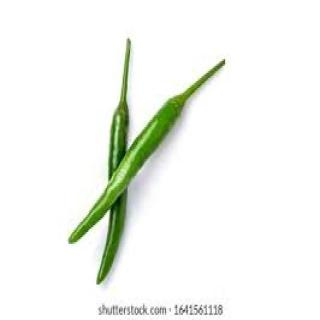Cabai Hijau: (69, 50, 227, 246)
